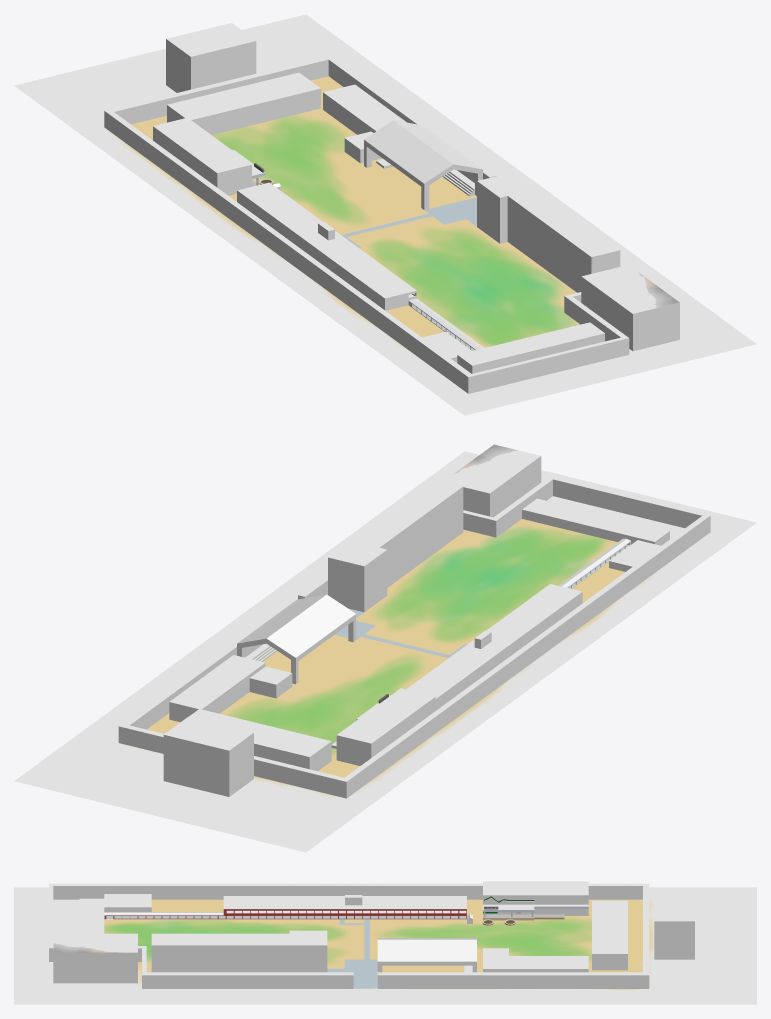
The model's file is msu.glb.
The picture shows the model from 3 angles, top to bottom: view 1: azimuth 30°, elevation 25°; view 2: azimuth 150°, elevation 25°; view 3: azimuth 270°, elevation 25°; orthographic projection. The views are drawn at different scales.
Parts seen in each view (by area): view 1: Plane, Plane.001; view 2: Plane, Plane.001; view 3: Plane, Plane.001.
Part boxes in pixels (<box>): Plane: <box>14,14,756,415</box>; Plane.001: <box>153,117,265,195</box>; Plane: <box>14,444,756,852</box>; Plane.001: <box>331,688,435,765</box>; Plane: <box>14,883,756,1004</box>; Plane.001: <box>483,881,588,920</box>.
Bounding box in the file's own units: 393 × 67 × 1050.
Materials: 12 (3 with a texture image).
